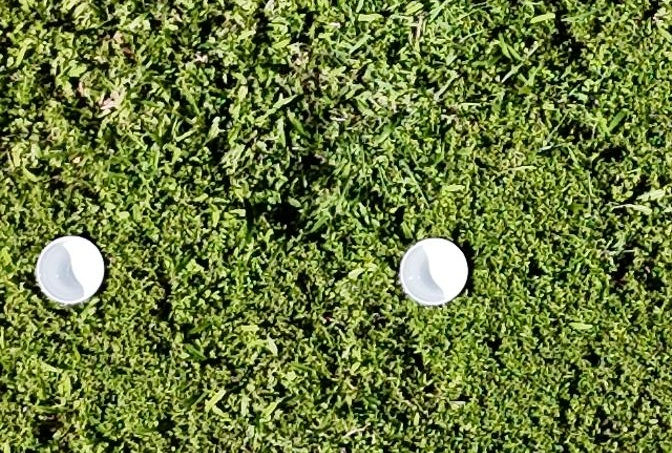bowl: (33, 234, 104, 307), (398, 238, 469, 307)
